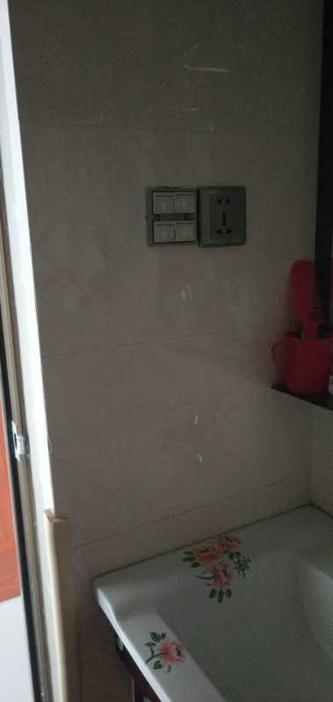switch: (156, 189, 196, 215), (156, 222, 208, 241)
